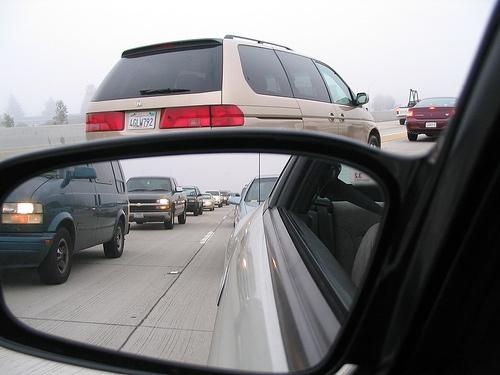car: (83, 33, 384, 152), (2, 158, 133, 287), (126, 176, 189, 232), (228, 175, 284, 238), (405, 96, 461, 142), (180, 186, 206, 217)
